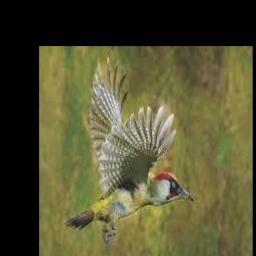Woodpecker: (63, 56, 194, 242)
